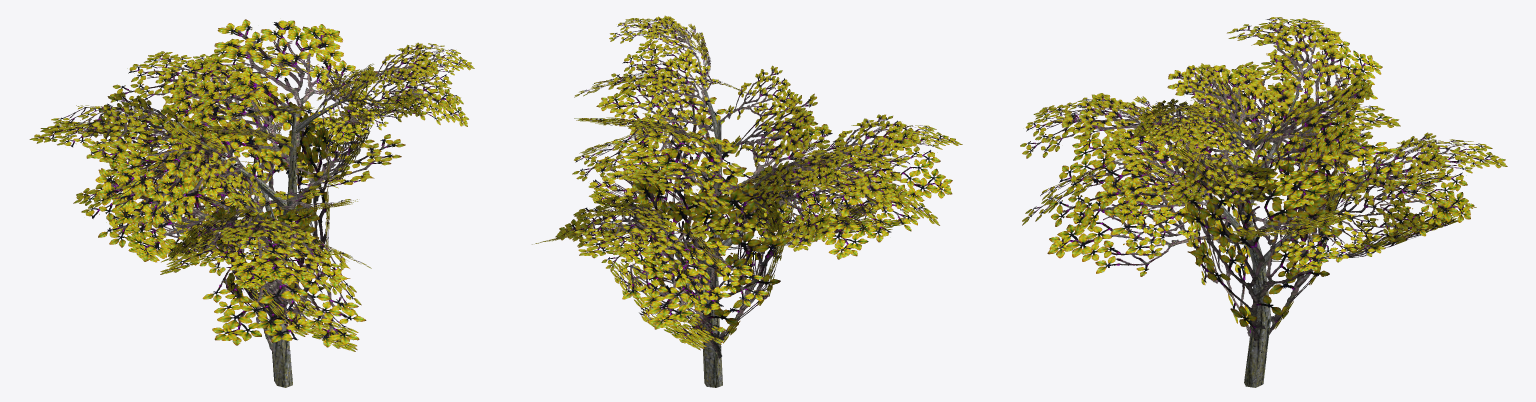
The model's file is deciduous_20.glb.
3 renders of one model, left to right at view 1: azimuth 30°, elevation 25°; view 2: azimuth 150°, elevation 25°; view 3: azimuth 270°, elevation 25°, orthographic. The views are drawn at different scales.
Visible parts, largest first — view 1: deciduous_20; view 2: deciduous_20; view 3: deciduous_20.
Part boxes in pixels (x1,y1,x2,y2): deciduous_20: (29, 19, 474, 387); deciduous_20: (532, 15, 962, 387); deciduous_20: (1020, 17, 1507, 387).
Bounding box in the file's own units: 15.4 × 12.74 × 18.41.
1 material, 1 textured.
